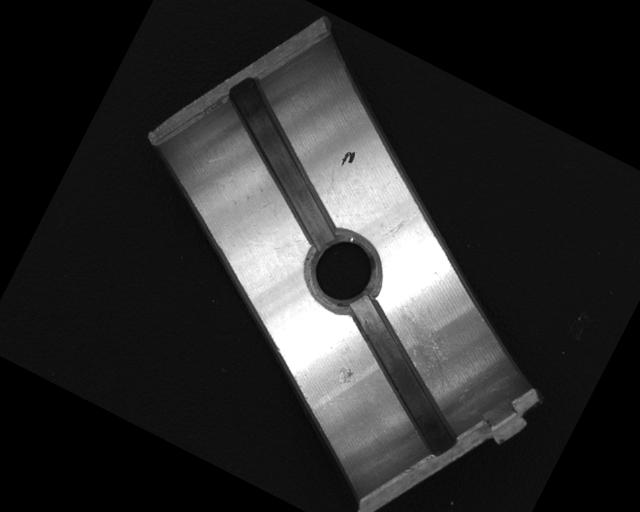blot: (338, 147, 358, 170)
bruise: (333, 363, 357, 388)
gap: (186, 73, 378, 250), (310, 294, 495, 461)
hole: (295, 222, 392, 323)
nick: (381, 199, 421, 246)
scratch: (371, 300, 478, 398)
